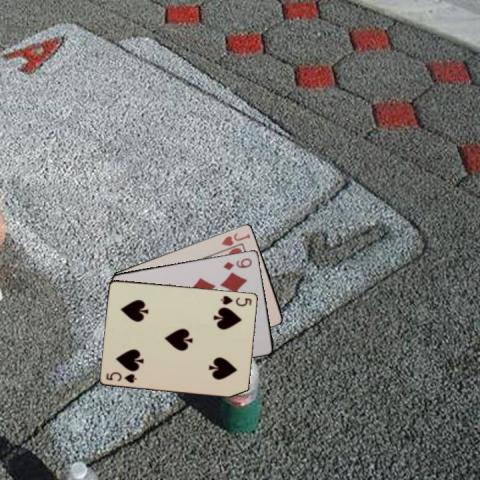5s: (103, 369, 139, 384), (218, 293, 253, 307)
9d: (220, 255, 253, 271)
Jh: (218, 230, 251, 248)
